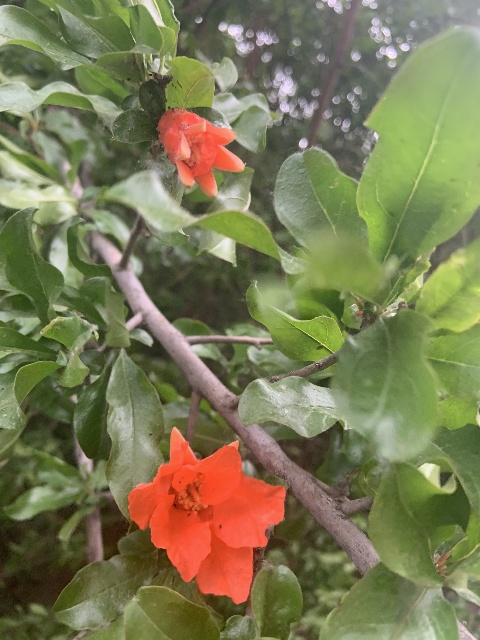flower: (127, 426, 286, 604), (157, 108, 244, 197)
